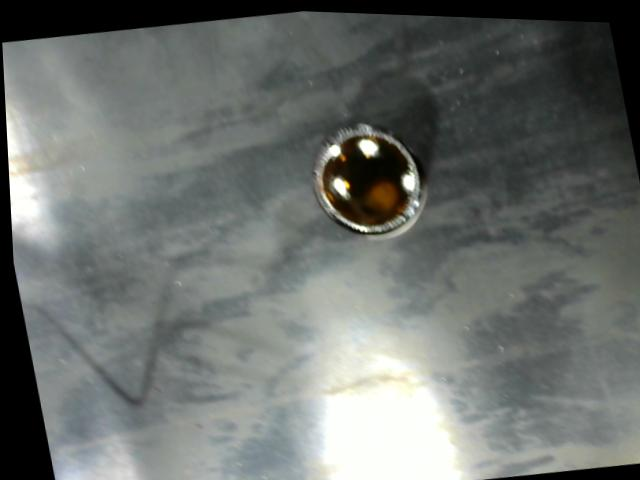glass: (310, 116, 428, 236)
